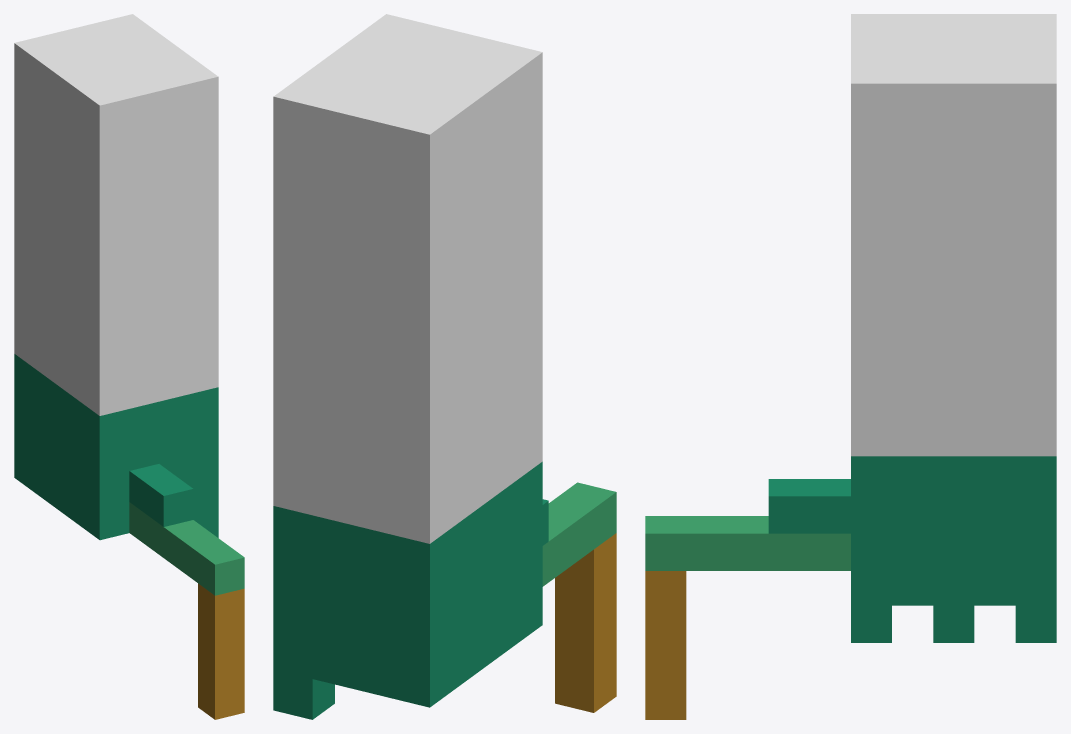
File: Osiris-2.obj
3 renders of one model, left to right at view 1: azimuth 30°, elevation 25°; view 2: azimuth 150°, elevation 25°; view 3: azimuth 270°, elevation 25°, orthographic. The views are drawn at different scales.
Bounding box in the file's own units: 0.4 × 1.8 × 1.
1 material, 1 textured.
